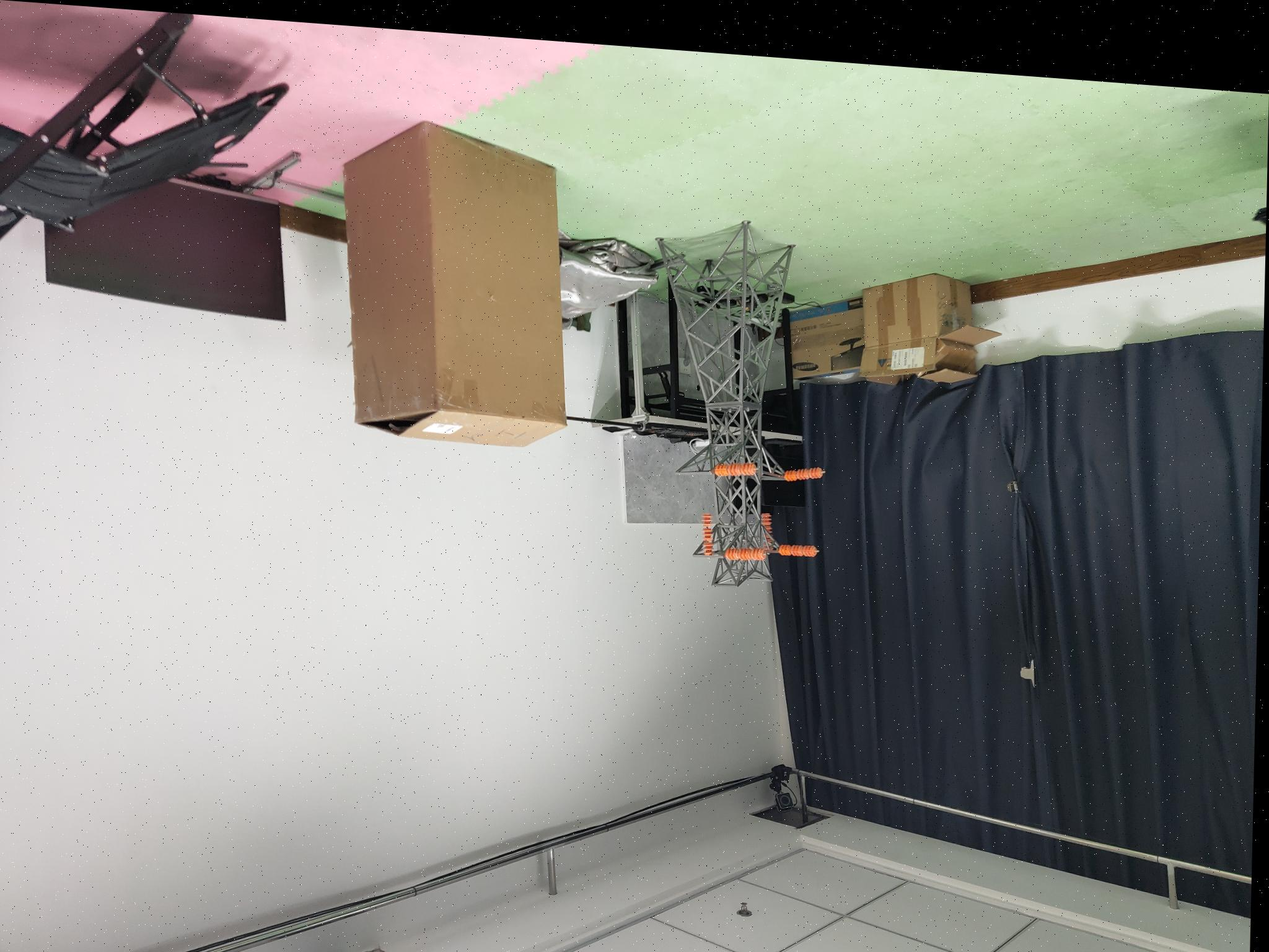tower: (653, 227, 792, 592)
